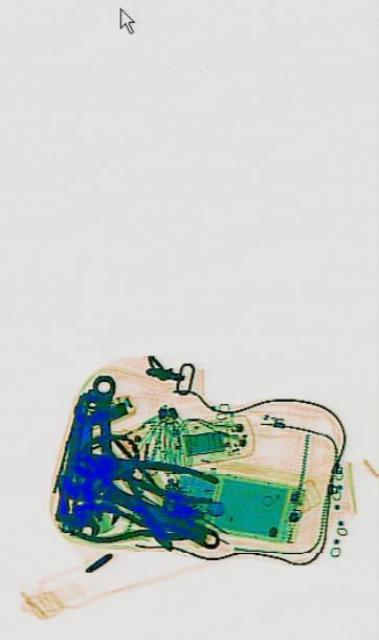Pliers: (99, 446, 218, 506)
Wrench: (55, 438, 222, 564), (91, 374, 117, 524), (72, 401, 98, 539)
